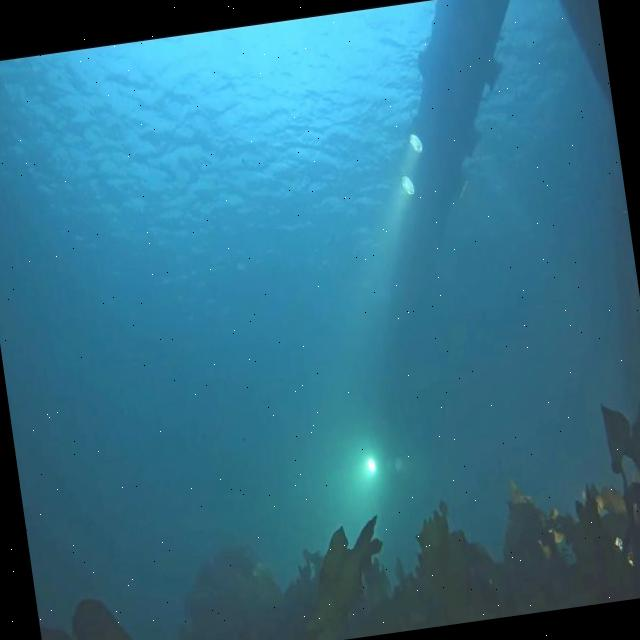fish: (436, 496, 450, 516)
